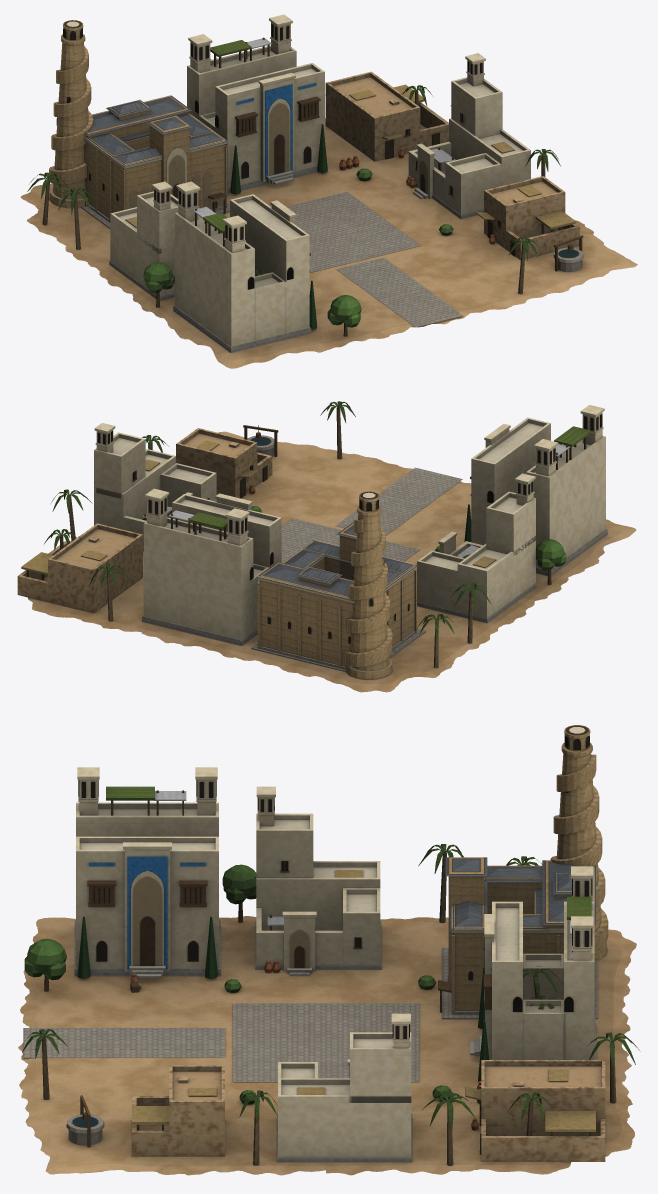
Rendered from kingdoms-town-small-a-levant.glb.
The picture shows the model from 3 angles, top to bottom: view 1: azimuth 30°, elevation 25°; view 2: azimuth 150°, elevation 25°; view 3: azimuth 270°, elevation 25°; orthographic projection. The views are drawn at different scales.
Visible parts, largest first — view 1: LOD0; view 2: LOD0; view 3: LOD0.
Part boxes in pixels (x1,y1,x2,y2): LOD0: [20, 14, 637, 368]; LOD0: [17, 401, 636, 692]; LOD0: [18, 725, 640, 1175].
Size of what is drawn, in the model's own units: 4.12 by 1.6 by 4.06.
Materials: 3 (3 with a texture image).
